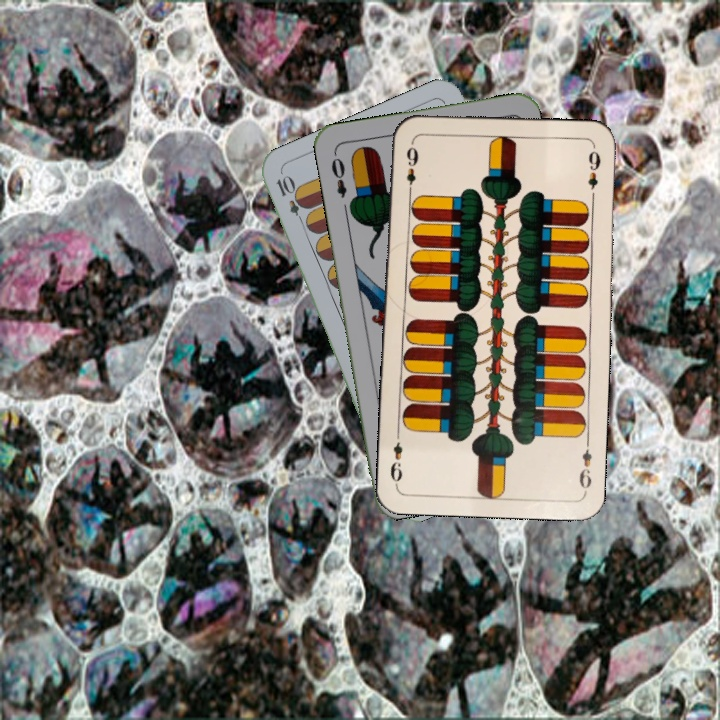E10: (272, 171, 309, 228)
E9: (575, 435, 595, 494), (402, 138, 421, 198)
EO: (327, 149, 350, 201)
